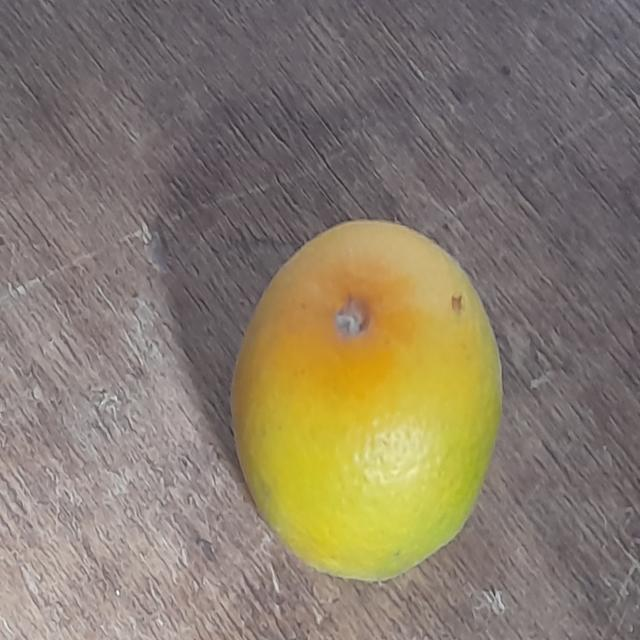greening: (230, 214, 507, 589)
